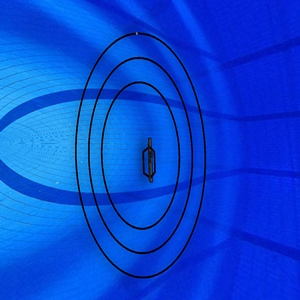circle: (73, 29, 210, 279)
submarine: (138, 134, 160, 186)
